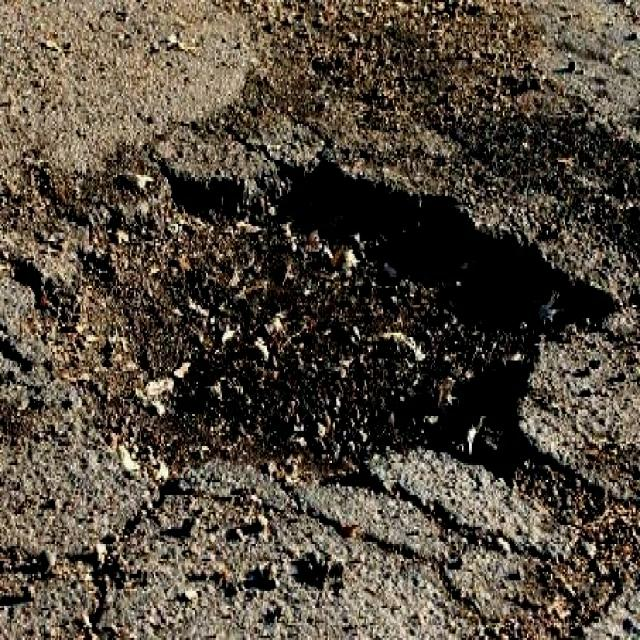Pothole: (20, 154, 619, 489)
